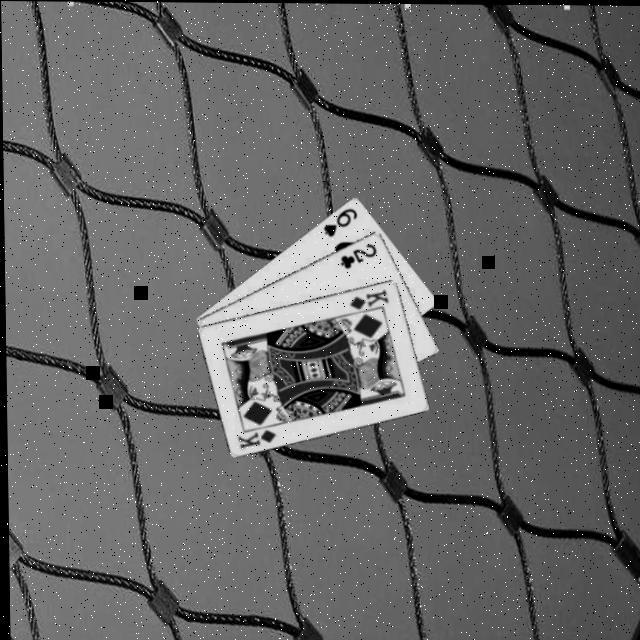2C: (338, 240, 380, 271)
6S: (320, 205, 360, 239)
KD: (346, 286, 392, 312), (235, 426, 278, 452)
